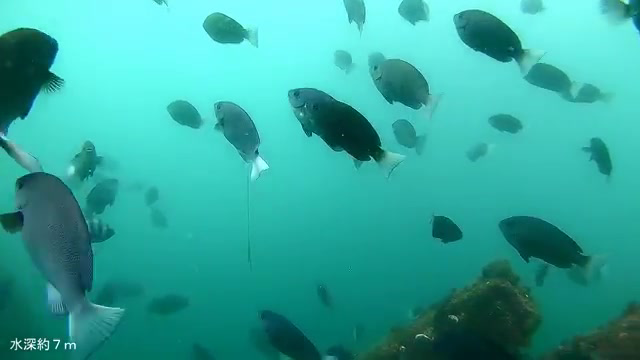gure: (7, 168, 128, 347), (280, 81, 412, 185), (486, 198, 602, 280), (365, 53, 467, 138), (444, 3, 539, 72), (210, 85, 275, 180)
smallfish: (197, 7, 267, 52), (577, 131, 629, 191), (165, 94, 215, 138), (486, 104, 533, 146), (425, 211, 471, 249)
